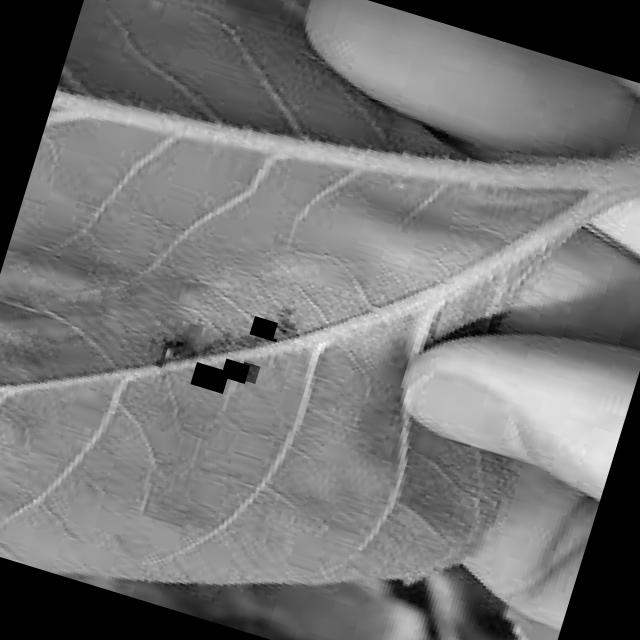aphid: (190, 362, 229, 394), (248, 316, 280, 342), (220, 358, 250, 384), (273, 321, 301, 345), (238, 362, 260, 384)
